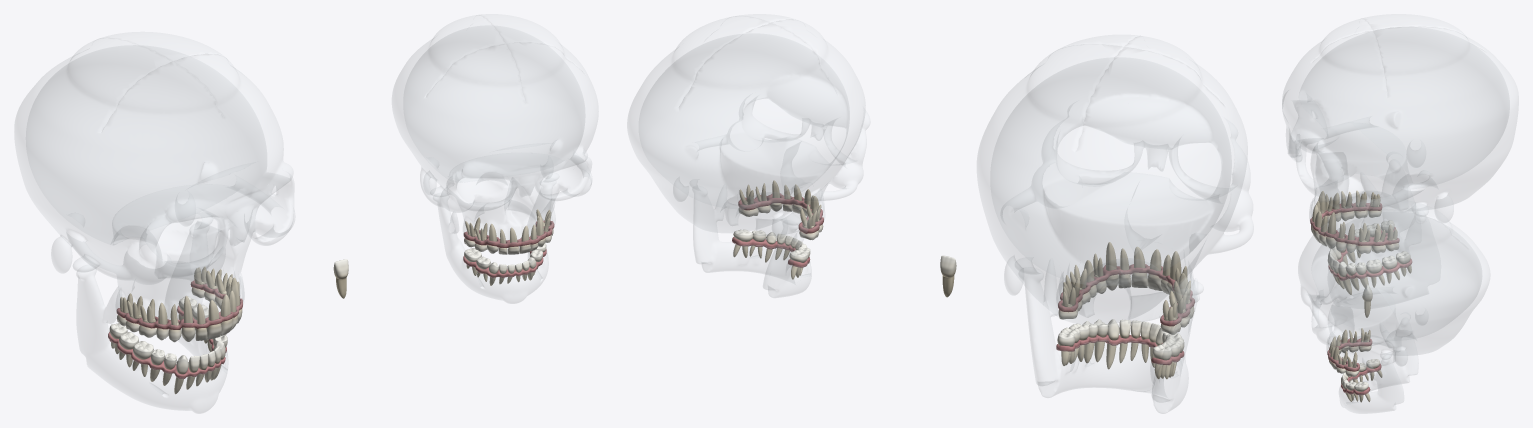
The model's file is odontograma3.glb.
3 views of the same model, side by side, from view 1: azimuth 30°, elevation 25°; view 2: azimuth 150°, elevation 25°; view 3: azimuth 270°, elevation 25° (orthographic). The views are drawn at different scales.
Parts seen in each view (by area): view 1: adulto_skull_upper, infantil_skull_upper, adulto_skull_mandible, infantil_skull_mandible, adulto_gingiva_upper, adulto_gingiva_lower, infantil_gingiva_upper; view 2: adulto_skull_upper, infantil_skull_upper, adulto_skull_mandible, infantil_skull_mandible, adulto_gingiva_upper, adulto_gingiva_lower, infantil_gingiva_upper; view 3: adulto_skull_upper, infantil_skull_upper, infantil_skull_mandible, adulto_skull_mandible, adulto_gingiva_upper, adulto_gingiva_lower, infantil_gingiva_upper, infantil_gingiva_lower.
Part boxes in pixels (x1,y1,x2,y2): adulto_skull_upper: (15, 32, 294, 327); infantil_skull_upper: (392, 14, 598, 245); adulto_skull_mandible: (77, 224, 227, 413); infantil_skull_mandible: (433, 179, 555, 303); adulto_gingiva_upper: (116, 280, 242, 329); adulto_gingiva_lower: (108, 305, 226, 378); infantil_gingiva_upper: (463, 220, 554, 247); adulto_skull_upper: (977, 35, 1253, 324); infantil_skull_upper: (627, 14, 869, 238); adulto_skull_mandible: (1024, 268, 1199, 413); infantil_skull_mandible: (693, 194, 811, 297); adulto_gingiva_upper: (1058, 264, 1194, 326); adulto_gingiva_lower: (1056, 335, 1184, 365); infantil_gingiva_upper: (738, 193, 823, 233); adulto_skull_upper: (1282, 14, 1518, 240); infantil_skull_upper: (1298, 199, 1489, 368); infantil_skull_mandible: (1339, 340, 1418, 413); adulto_skull_mandible: (1328, 175, 1421, 297); adulto_gingiva_upper: (1310, 202, 1399, 245); adulto_gingiva_lower: (1328, 227, 1412, 280); infantil_gingiva_upper: (1327, 338, 1372, 371); infantil_gingiva_lower: (1341, 364, 1381, 395).
Bounding box in the file's own units: 0.344 × 0.2068 × 0.1629.
